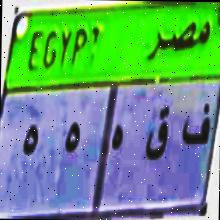5: (17, 118, 44, 162), (62, 111, 84, 163)
faa: (180, 94, 214, 157)
haa: (109, 125, 131, 153)
qaaf: (145, 106, 172, 168)
